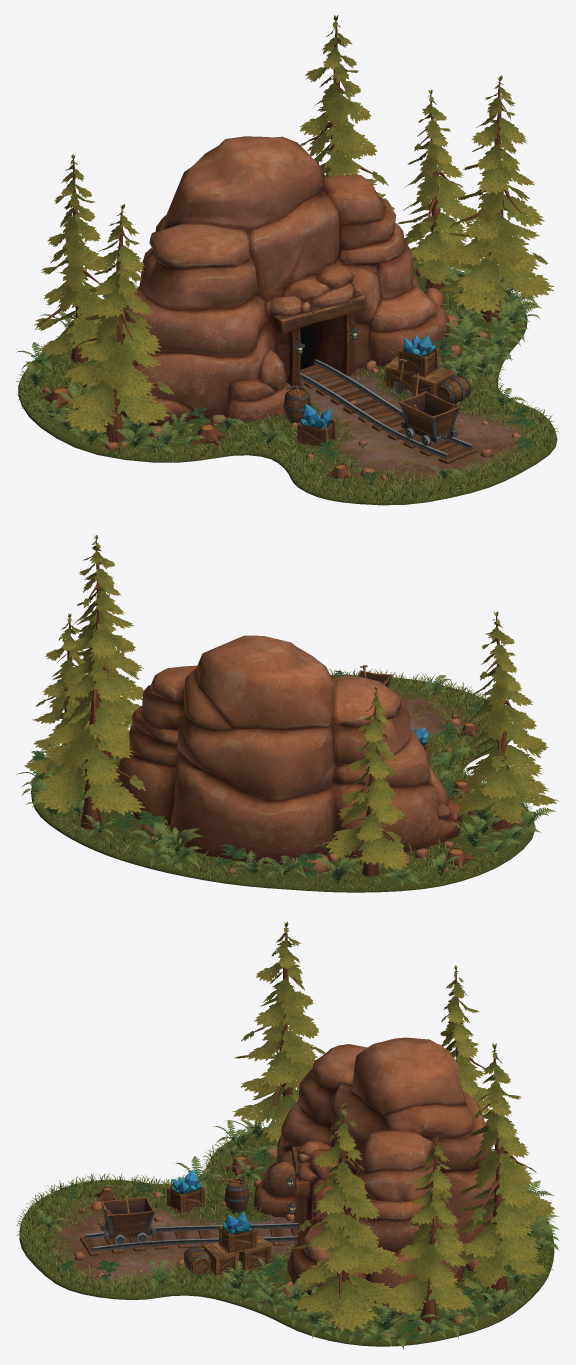
Rendered from Mine.fbx.
3 renders of one model, top to bottom at view 1: azimuth 30°, elevation 25°; view 2: azimuth 150°, elevation 25°; view 3: azimuth 270°, elevation 25°, orthographic. The views are drawn at different scales.
Parts seen in each view (by area): view 1: Cave-Low-POLY, Base, Pine-Low-POLY, Pine-Low-POLY.004, Pine-Low-POLY.001, Pine-Low-POLY.002, Pine-Low-POLY.003, Vagon-Low-POLY.001, Wood-1-Low-POLY, Wood-2-Low-POLY, Box-2.001, Box-2.002 (+5 smaller); view 2: Cave-Low-POLY, Base, Pine-Low-POLY.003, Pine-Low-POLY.004, Pine-Low-POLY.002, Pine-Low-POLY, Pine-Low-POLY.001, a.009, a-1.010, a.006; view 3: Cave-Low-POLY, Base, Pine-Low-POLY, Pine-Low-POLY.003, Pine-Low-POLY.004, Pine-Low-POLY.001, Pine-Low-POLY.002, Vagon-Low-POLY.001, Box-2.002, Box-2.001, Rails-Low-POLY.002, Box-1.001 (+4 smaller).
Boxes of the visible parts, x1=… form: Cave-Low-POLY: x1=119, y1=136, x2=449, y2=425; Base: x1=18, y1=263, x2=557, y2=505; Pine-Low-POLY: x1=436, y1=75, x2=554, y2=322; Pine-Low-POLY.004: x1=60, y1=204, x2=174, y2=442; Pine-Low-POLY.001: x1=397, y1=89, x2=478, y2=289; Pine-Low-POLY.002: x1=34, y1=154, x2=107, y2=363; Pine-Low-POLY.003: x1=299, y1=14, x2=394, y2=209; Vagon-Low-POLY.001: x1=398, y1=391, x2=460, y2=445; Wood-1-Low-POLY: x1=273, y1=291, x2=366, y2=334; Wood-2-Low-POLY: x1=287, y1=313, x2=356, y2=386; Box-2.001: x1=397, y1=335, x2=439, y2=377; Box-2.002: x1=296, y1=404, x2=337, y2=448; Cave-Low-POLY: x1=114, y1=635, x2=462, y2=864; Base: x1=31, y1=675, x2=535, y2=892; Pine-Low-POLY.003: x1=35, y1=587, x2=145, y2=829; Pine-Low-POLY.004: x1=456, y1=611, x2=558, y2=830; Pine-Low-POLY.002: x1=325, y1=686, x2=408, y2=876; Pine-Low-POLY: x1=52, y1=535, x2=144, y2=758; Pine-Low-POLY.001: x1=25, y1=613, x2=108, y2=791; a.009: x1=152, y1=822, x2=202, y2=854; a-1.010: x1=261, y1=855, x2=306, y2=879; a.006: x1=315, y1=857, x2=362, y2=883; Cave-Low-POLY: x1=254, y1=1037, x2=495, y2=1303; Base: x1=19, y1=1125, x2=554, y2=1346; Pine-Low-POLY: x1=285, y1=1103, x2=403, y2=1331; Pine-Low-POLY.003: x1=444, y1=1043, x2=554, y2=1297; Pine-Low-POLY.004: x1=232, y1=921, x2=325, y2=1142; Pine-Low-POLY.001: x1=386, y1=1136, x2=477, y2=1323; Pine-Low-POLY.002: x1=440, y1=965, x2=492, y2=1124; Vagon-Low-POLY.001: x1=100, y1=1197, x2=155, y2=1244; Box-2.002: x1=166, y1=1169, x2=206, y2=1213; Box-2.001: x1=218, y1=1211, x2=257, y2=1253; Rails-Low-POLY.002: x1=92, y1=1236, x2=297, y2=1252; Box-1.001: x1=203, y1=1242, x2=239, y2=1276.
Bounding box in the file's own units: 17.41 × 8.48 × 16.82.
